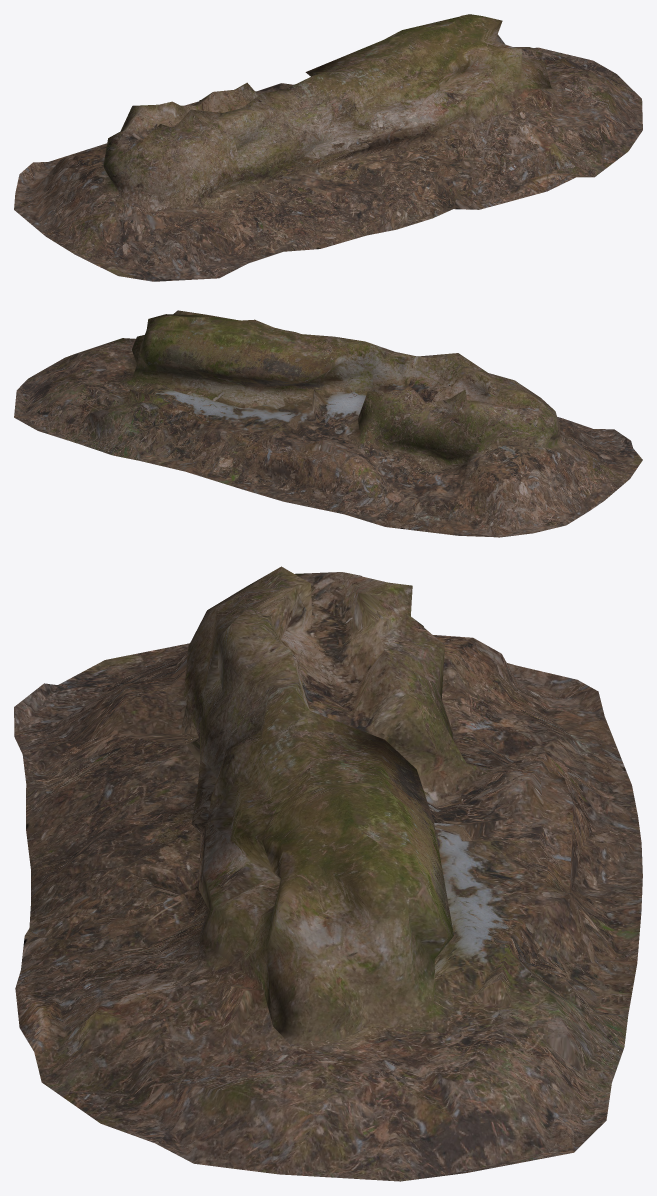
Rendered from PX_Fallen_Trunk_03_LOD5.fbx.
The picture shows the model from 3 angles, top to bottom: view 1: azimuth 30°, elevation 25°; view 2: azimuth 150°, elevation 25°; view 3: azimuth 270°, elevation 25°; orthographic projection. The views are drawn at different scales.
Parts seen in each view (by area): view 1: PX_Fallen_Trunk_03_LOD5; view 2: PX_Fallen_Trunk_03_LOD5; view 3: PX_Fallen_Trunk_03_LOD5.
Boxes of the visible parts, box(x1,y1,x2,y2) form: PX_Fallen_Trunk_03_LOD5: box(14, 14, 642, 281); PX_Fallen_Trunk_03_LOD5: box(14, 310, 642, 537); PX_Fallen_Trunk_03_LOD5: box(14, 566, 642, 1181).
Bounding box in the file's own units: 177 × 31.5 × 86.86.
